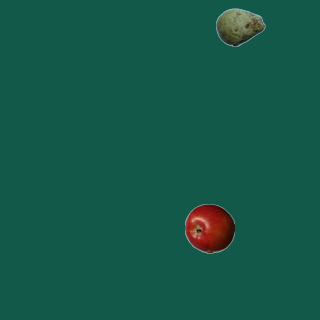Apple Braeburn: (184, 203, 234, 253)
Pear Stone: (215, 2, 265, 52)
